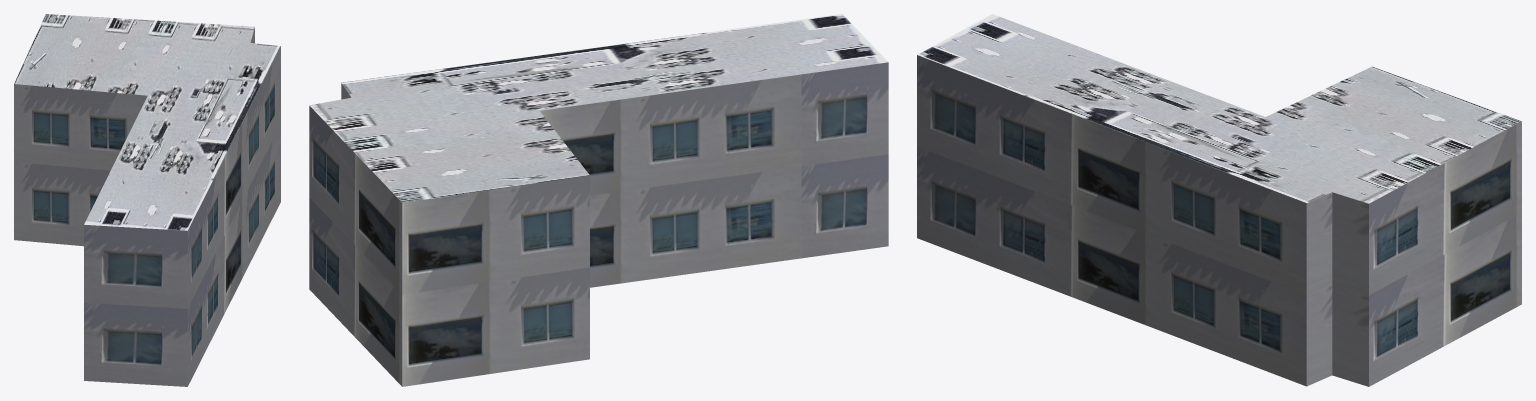
Rendered from ResTex__150.fbx.
3 views of the same model, side by side, from view 1: azimuth 30°, elevation 25°; view 2: azimuth 150°, elevation 25°; view 3: azimuth 270°, elevation 25° (orthographic). The views are drawn at different scales.
Parts seen in each view (by area): view 1: CityEngineMaterial_10_m, CityEngineMaterial_8_m; view 2: CityEngineMaterial_10_m, CityEngineMaterial_8_m; view 3: CityEngineMaterial_10_m, CityEngineMaterial_8_m.
Part boxes in pixels (x1=…): CityEngineMaterial_10_m: x1=14, y1=27, x2=280, y2=386; CityEngineMaterial_8_m: x1=14, y1=14, x2=280, y2=230; CityEngineMaterial_10_m: x1=309, y1=62, x2=888, y2=386; CityEngineMaterial_8_m: x1=309, y1=14, x2=888, y2=202; CityEngineMaterial_10_m: x1=917, y1=55, x2=1521, y2=386; CityEngineMaterial_8_m: x1=917, y1=14, x2=1521, y2=203.
Size of the model in its own units: 13.33 by 6 by 17.95.
Materials: 2 (2 with a texture image).
